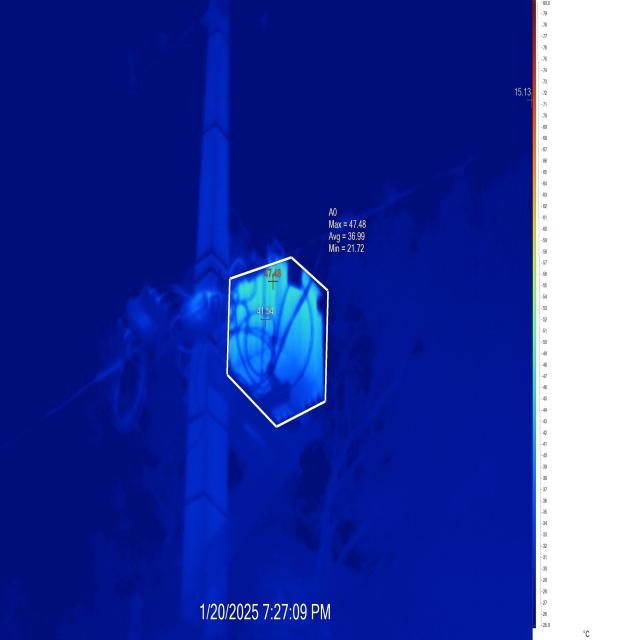Transformer: (5, 8, 357, 469)
